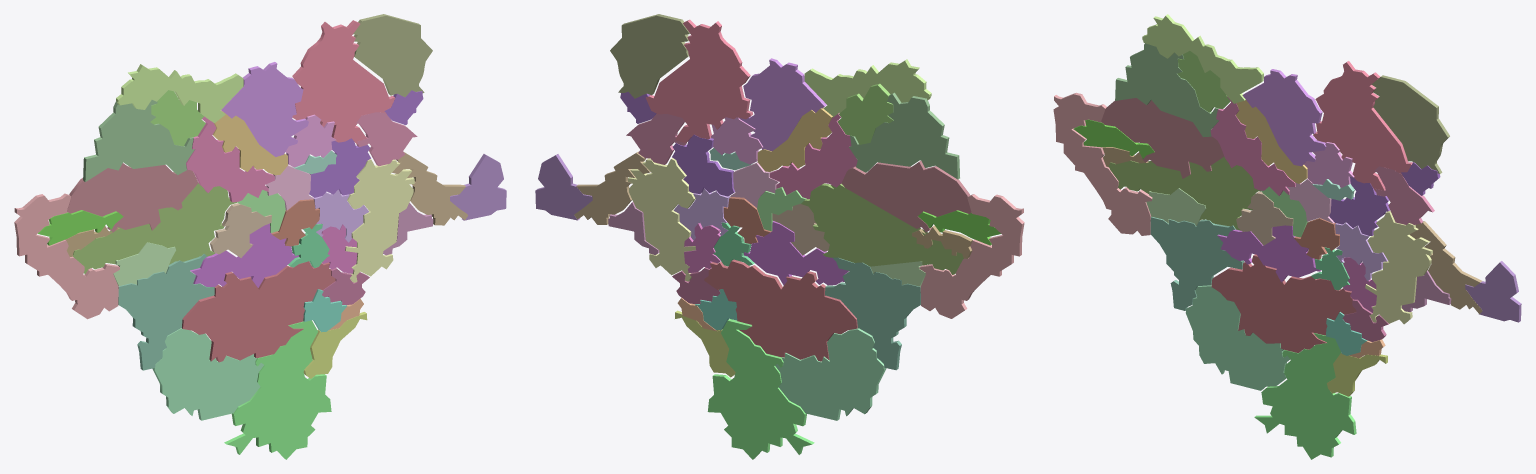
The model's file is terreno.fbx.
The picture shows the model from 3 angles, left to right: view 1: azimuth 30°, elevation 25°; view 2: azimuth 150°, elevation 25°; view 3: azimuth 330°, elevation 25°; orthographic projection. The views are drawn at different scales.
Parts seen in each view (by area): view 1: durango, mezquital, mapimi, pueblo_nuevo, santiago_papasquiaro, tamazula, tepehuanes, san_dimas, guanacevi, cuencame, hidalgo, tlahualilo (+26 smaller); view 2: durango, mezquital, mapimi, santiago_papasquiaro, pueblo_nuevo, tamazula, tepehuanes, san_dimas, guanacevi, cuencame, tlahualilo, hidalgo (+25 smaller); view 3: durango, mezquital, mapimi, pueblo_nuevo, santiago_papasquiaro, tamazula, tepehuanes, san_dimas, cuencame, hidalgo, guanacevi, tlahualilo (+26 smaller).
Boxes of the visible parts, box(x1,y1,x2,y2) form: durango: box(182, 261, 335, 362); mezquital: box(224, 320, 331, 459); mapimi: box(292, 20, 395, 144); pueblo_nuevo: box(152, 328, 263, 420); santiago_papasquiaro: box(73, 183, 236, 273); tamazula: box(14, 193, 119, 319); tepehuanes: box(67, 163, 198, 232); san_dimas: box(118, 254, 214, 370); guanacevi: box(83, 100, 194, 181); cuencame: box(345, 159, 414, 282); hidalgo: box(221, 62, 308, 156); tlahualilo: box(353, 14, 432, 96); durango: box(704, 259, 857, 361); mezquital: box(707, 319, 814, 459); mapimi: box(645, 19, 752, 143); santiago_papasquiaro: box(801, 183, 963, 274); pueblo_nuevo: box(775, 328, 886, 420); tamazula: box(919, 194, 1024, 318); tepehuanes: box(841, 160, 971, 232); san_dimas: box(825, 257, 920, 370); guanacevi: box(849, 92, 959, 179); cuencame: box(628, 158, 695, 281); tlahualilo: box(610, 14, 689, 98); hidalgo: box(739, 58, 826, 151); durango: box(1211, 254, 1356, 352); mezquital: box(1254, 333, 1356, 459); mapimi: box(1313, 61, 1412, 191); pueblo_nuevo: box(1185, 285, 1290, 390); santiago_papasquiaro: box(1108, 156, 1261, 230); tamazula: box(1053, 92, 1152, 235); tepehuanes: box(1101, 98, 1224, 178); san_dimas: box(1150, 217, 1244, 310); cuencame: box(1365, 211, 1432, 324); hidalgo: box(1242, 69, 1326, 166); guanacevi: box(1115, 43, 1218, 137); tlahualilo: box(1371, 75, 1449, 173).
Bounding box in the file's own units: 954 × 808 × 25.87.
